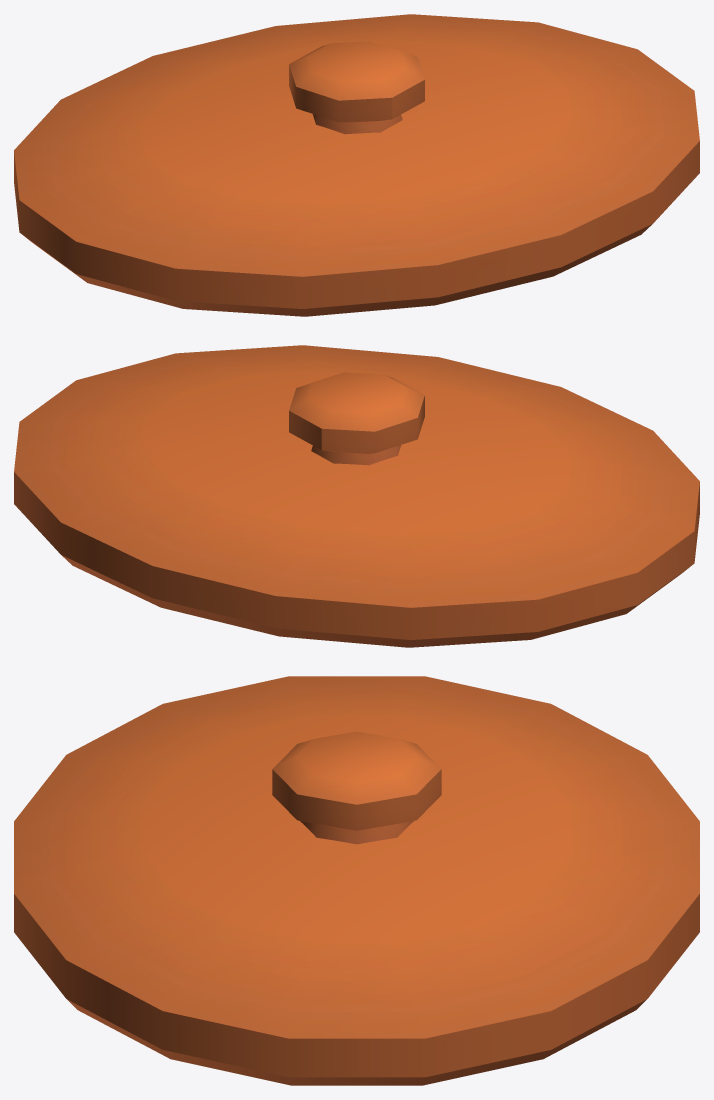
Rendered from kaykit-restaurant-bits-lid-large.glb.
3 renders of one model, top to bottom at view 1: azimuth 30°, elevation 25°; view 2: azimuth 150°, elevation 25°; view 3: azimuth 270°, elevation 25°, orthographic. The views are drawn at different scales.
Visible parts, largest first — view 1: lid_large; view 2: lid_large; view 3: lid_large.
Boxes of the visible parts, box(x1,y1,x2,y2) form: lid_large: box(14, 14, 699, 316); lid_large: box(14, 345, 699, 647); lid_large: box(14, 676, 699, 1085).
Bounding box in the file's own units: 1.5 × 0.2999 × 1.2.
1 material, 1 textured.
